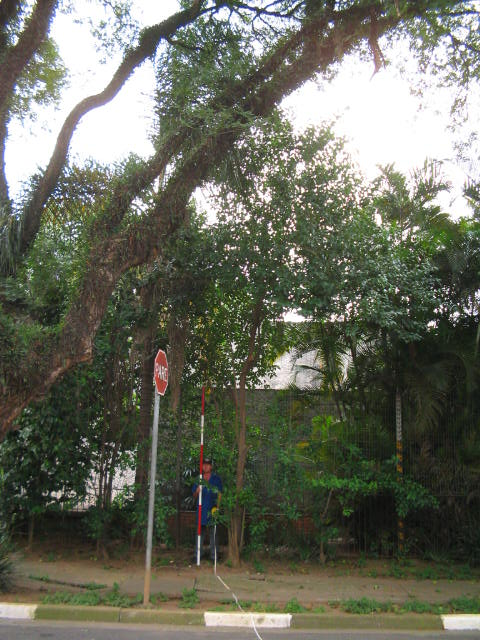stick: (191, 388, 210, 567)
